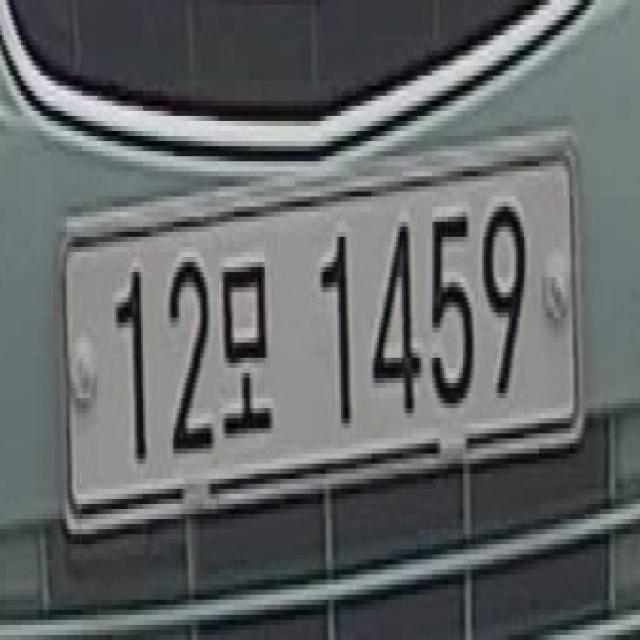1: (317, 211, 358, 440), (112, 259, 154, 469)
2: (168, 246, 215, 464)
4: (371, 212, 423, 421)
5: (430, 213, 474, 406)
9: (480, 192, 530, 416)
license_plate: (50, 116, 587, 548)
mo: (222, 240, 280, 450)
